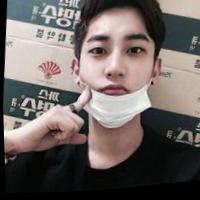WRONG: (72, 28, 157, 126)
